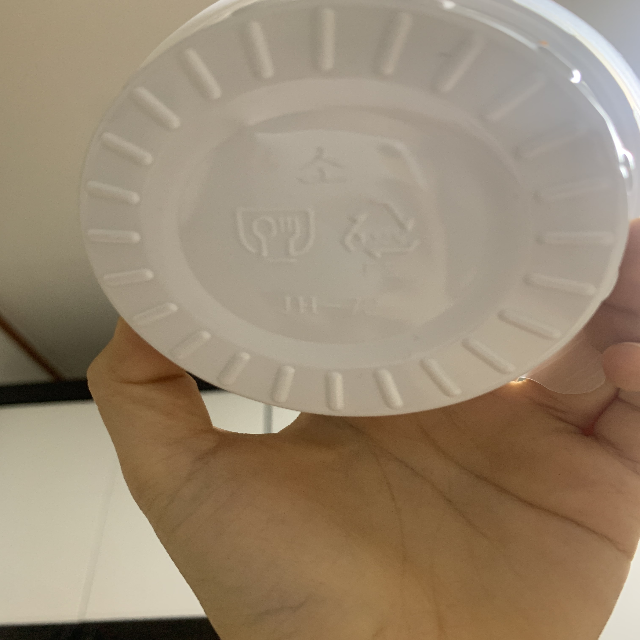ps: (334, 197, 426, 282)
